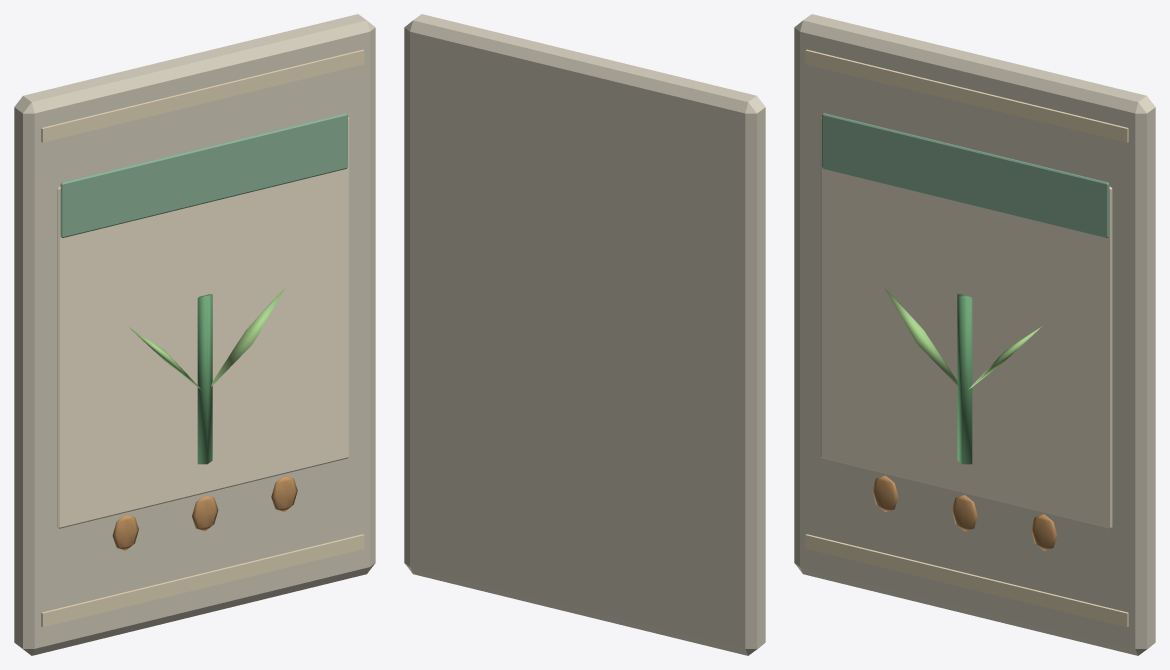
The model's file is sachet_graines.glb.
3 renders of one model, left to right at view 1: azimuth 30°, elevation 25°; view 2: azimuth 150°, elevation 25°; view 3: azimuth 330°, elevation 25°, orthographic.
Parts seen in each view (by area): view 1: sachet_graines; view 2: sachet_graines; view 3: sachet_graines.
Part boxes in pixels (x1,y1,x2,y2): sachet_graines: (14, 14, 375, 655); sachet_graines: (404, 14, 765, 655); sachet_graines: (794, 14, 1155, 655).
Bounding box in the file's own units: 0.08 × 0.12 × 0.01.
